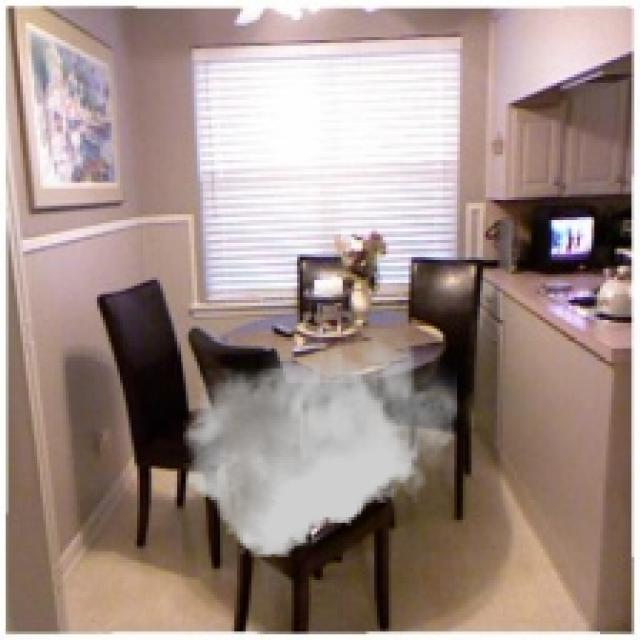Smoke: (182, 328, 458, 558)
